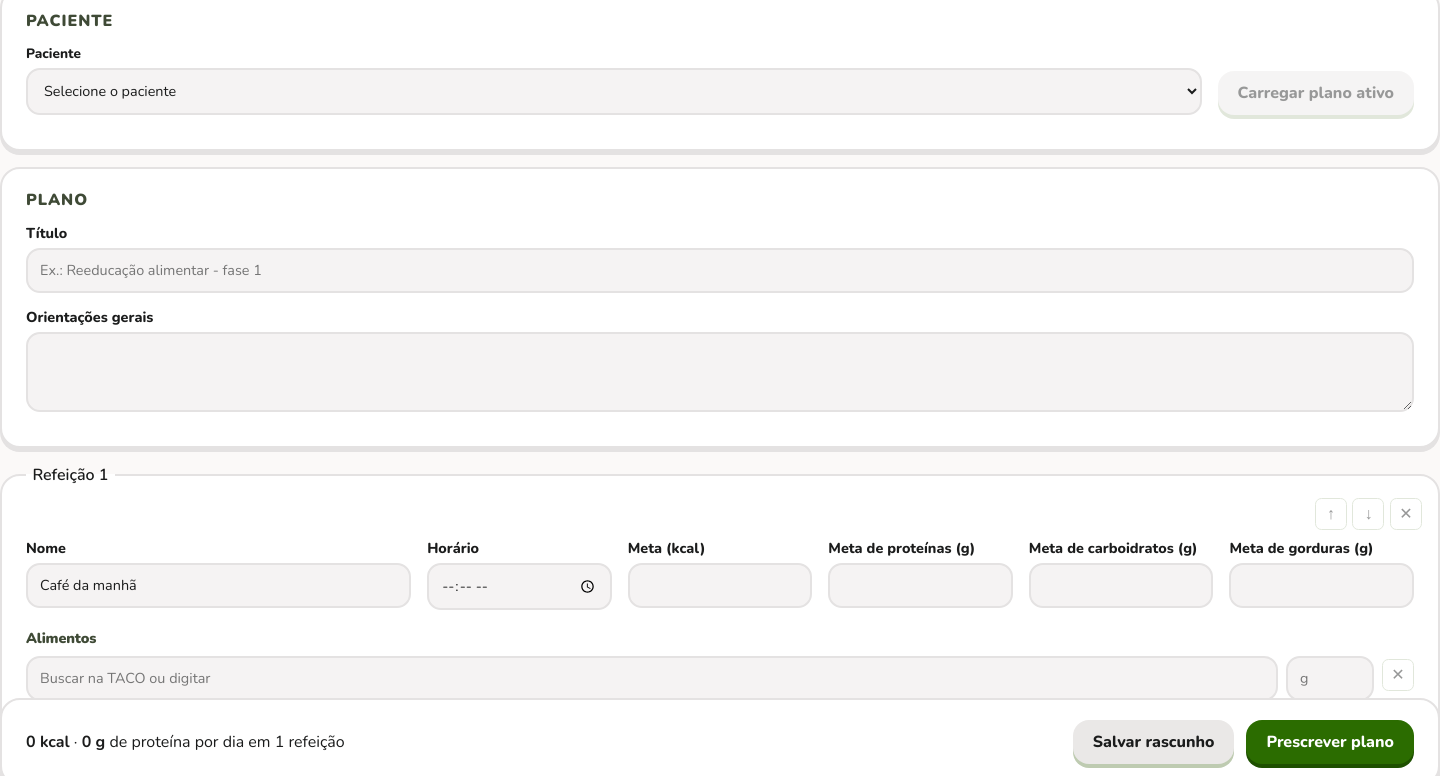
Test: PlanBuilderPage - validacao › exige escolher o paciente
The width and height of the screenshot is (1440, 776).
Click the button "Prescrever plano" at (1330, 742), box [1246,720,1414,764]
(page scrolled)
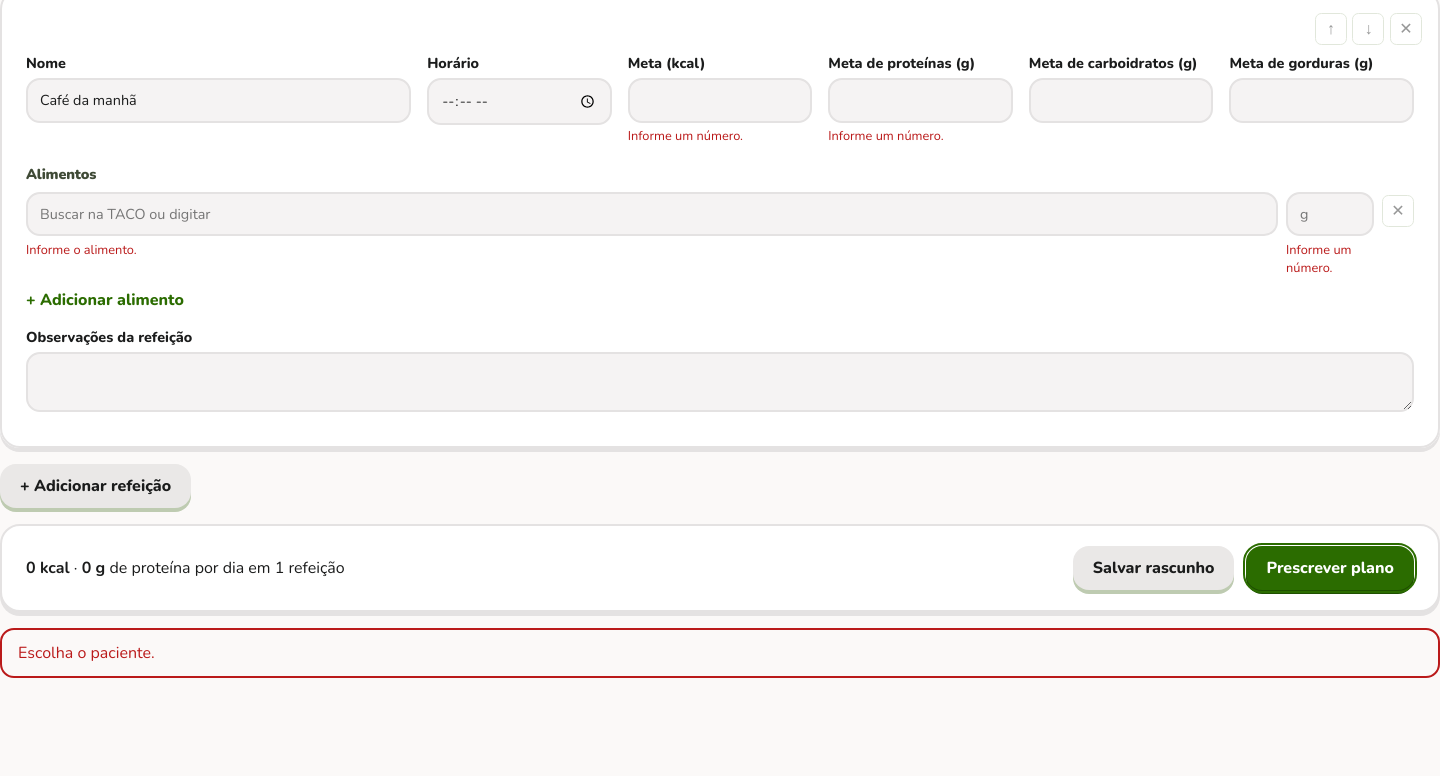
Result: the message reads "Escolha o paciente." at [18,642,155,664]
